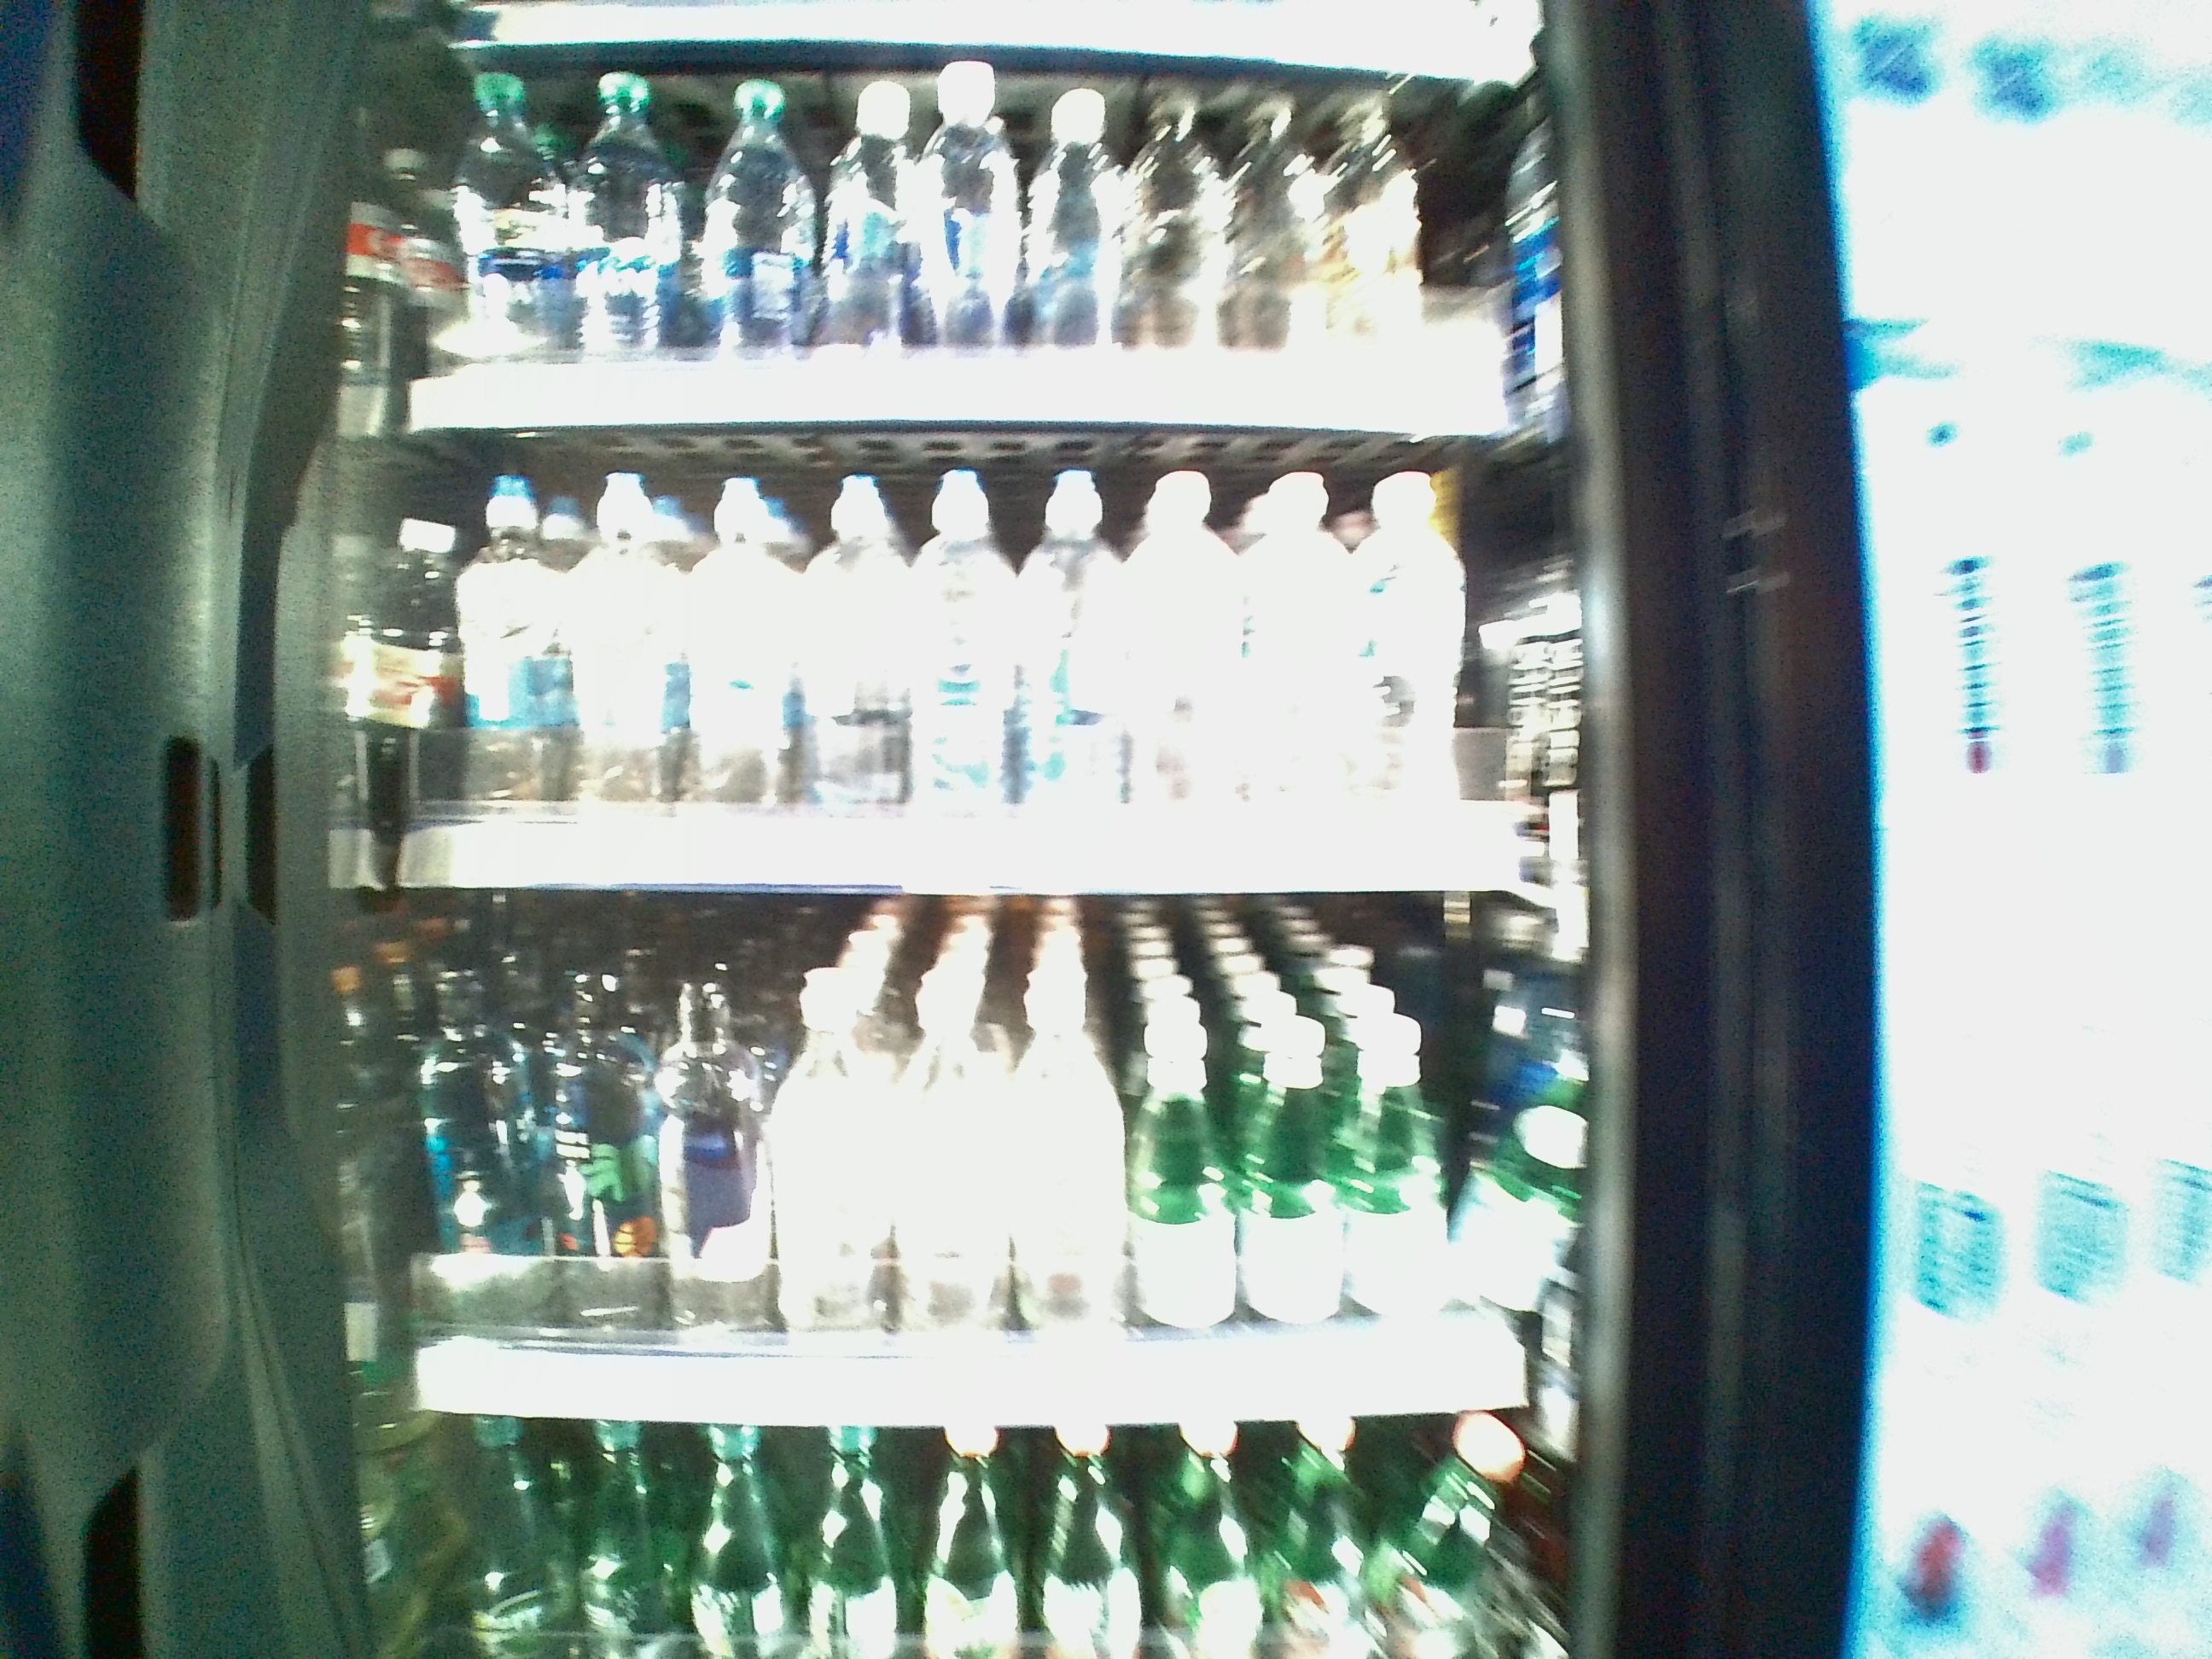shelf: (366, 899, 1548, 1424), (369, 430, 1554, 897)
